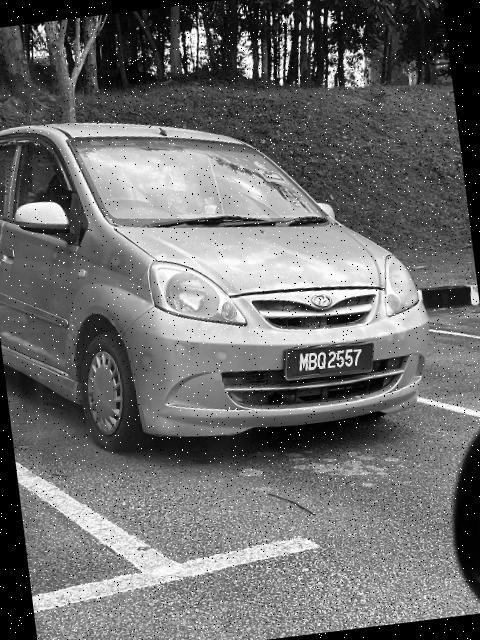License_Plate: (280, 334, 380, 390)
MBQ2557: (280, 334, 380, 390)
car: (1, 73, 454, 476)
